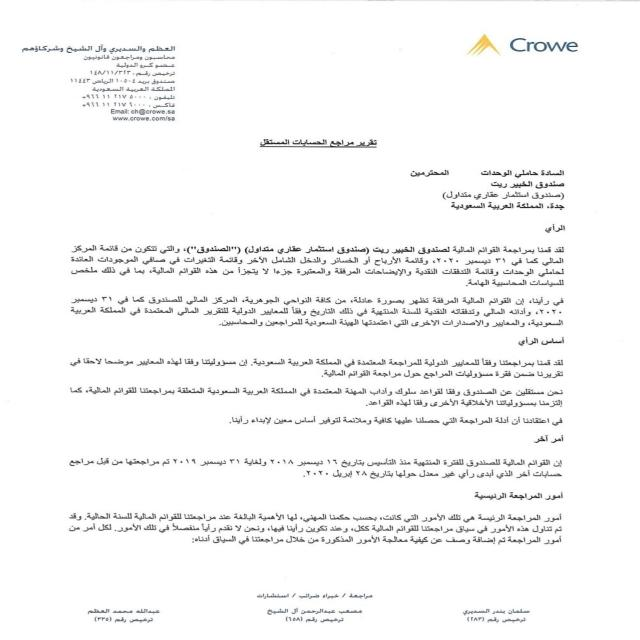auditor_report: (252, 134, 379, 155)
